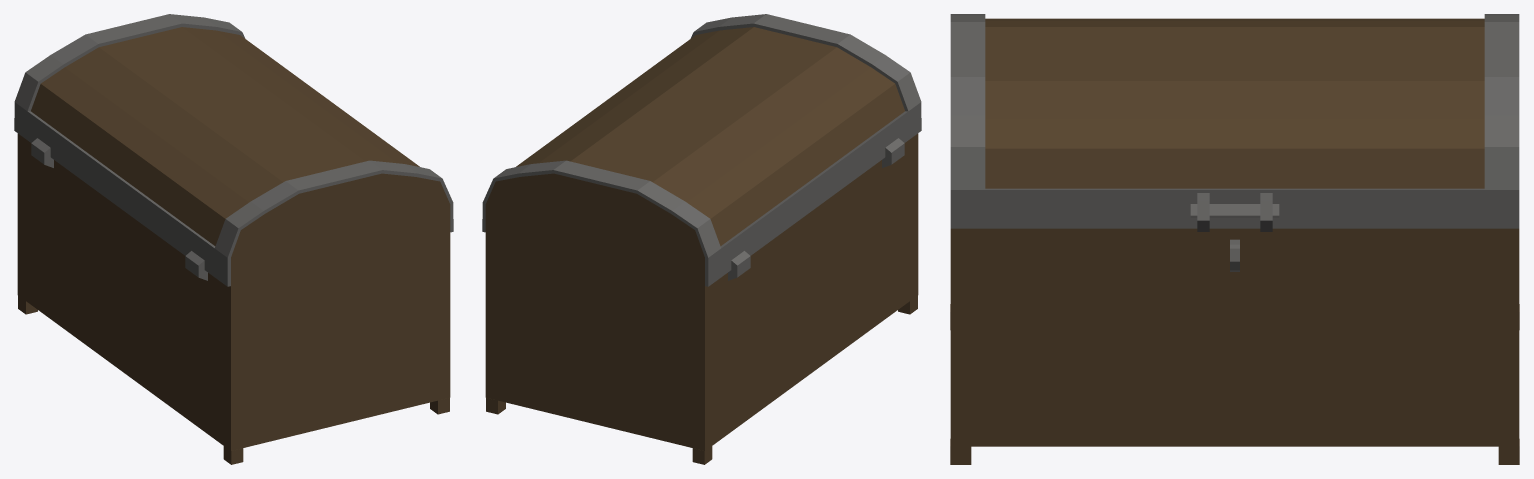
File: basicChest.fbx
3 renders of one model, left to right at view 1: azimuth 30°, elevation 25°; view 2: azimuth 150°, elevation 25°; view 3: azimuth 270°, elevation 25°, orthographic. The views are drawn at different scales.
Visible parts, largest first — view 1: treasure chest, treasure chest lid; view 2: treasure chest, treasure chest lid; view 3: treasure chest, treasure chest lid.
Boxes of the visible parts, bbox=[...] form: treasure chest: bbox=[17, 133, 450, 464]; treasure chest lid: bbox=[14, 14, 453, 286]; treasure chest: bbox=[485, 133, 918, 464]; treasure chest lid: bbox=[482, 14, 921, 286]; treasure chest: bbox=[950, 228, 1519, 464]; treasure chest lid: bbox=[950, 14, 1519, 231].
Size of the model in its own units: 113 by 112 by 167.
